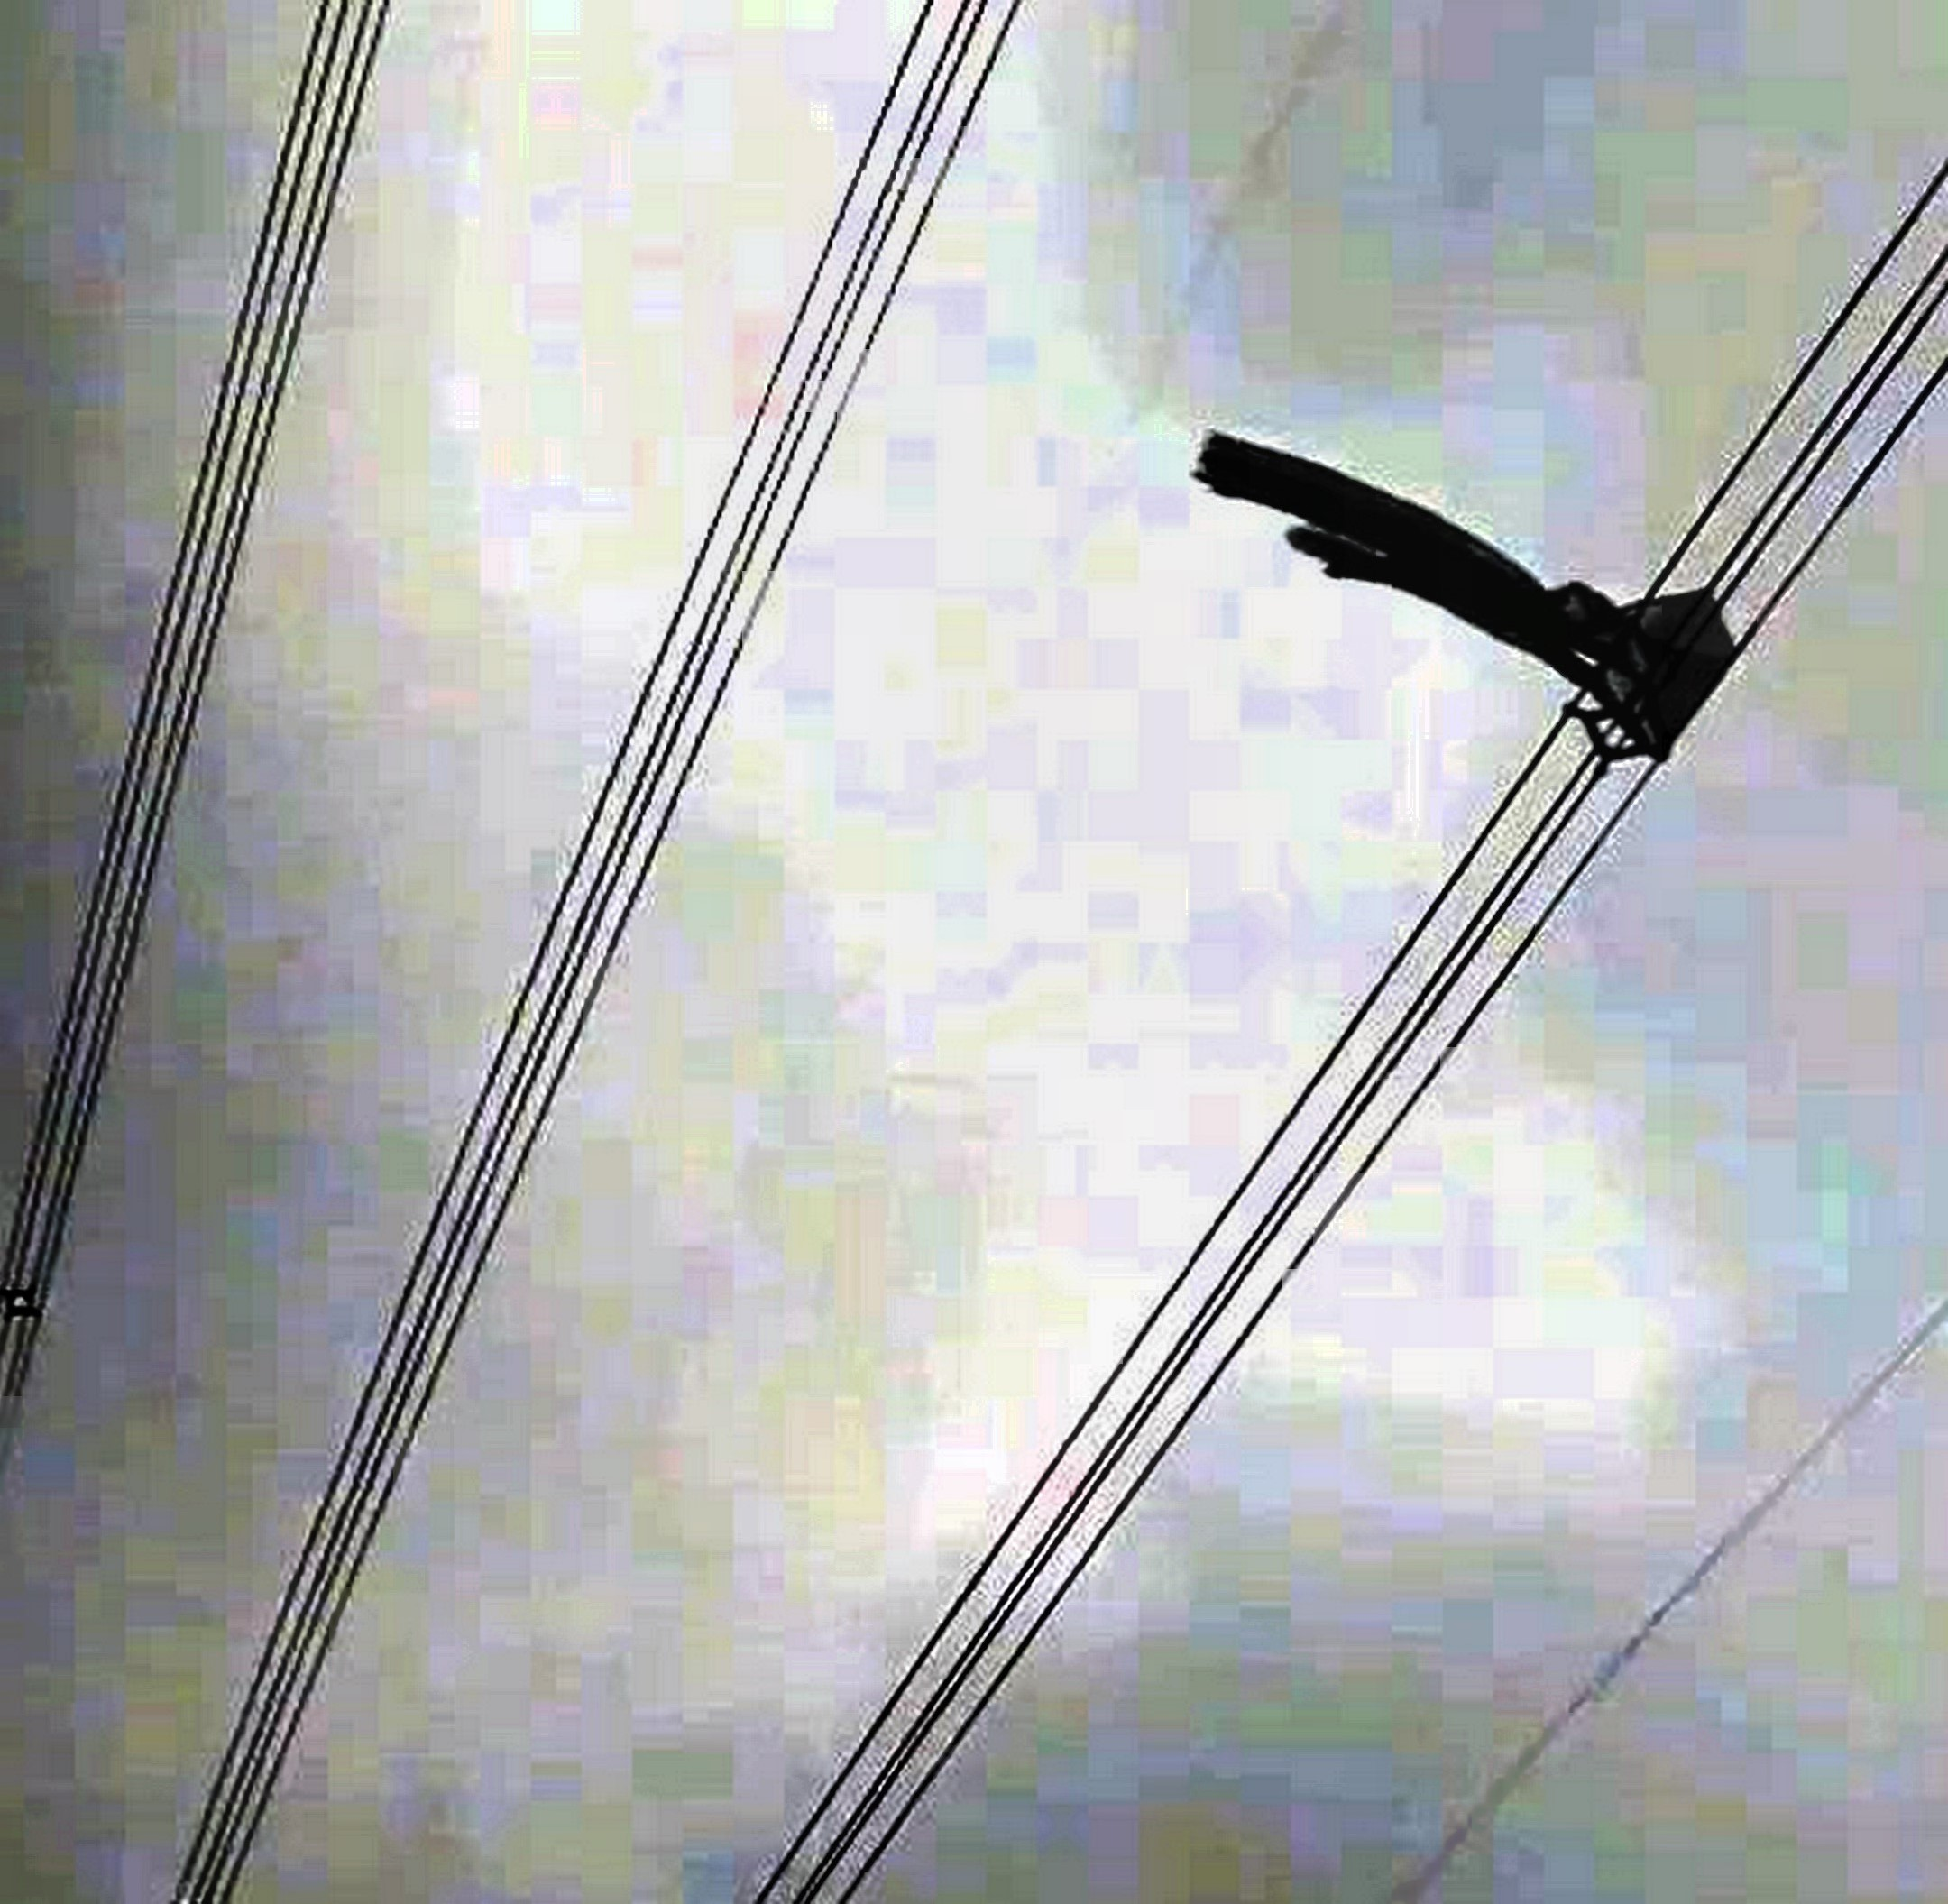wire foreign body: (1175, 405, 1749, 785)
